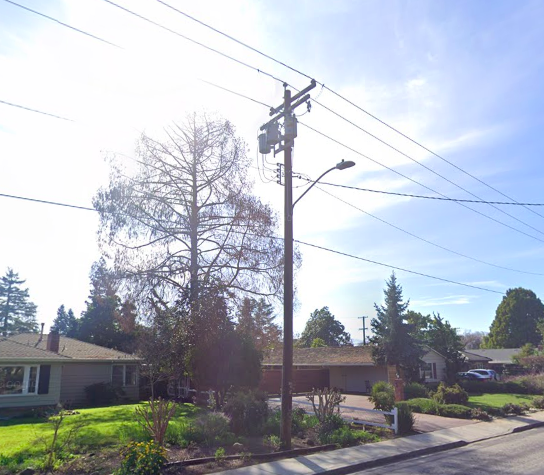utility_pole: (255, 76, 319, 161)
